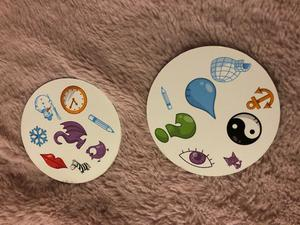ancre: (244, 86, 274, 111)
bonhomme_neige: (31, 93, 62, 125)
bouche: (38, 150, 68, 170)
chat: (222, 151, 242, 170)
crayon: (85, 111, 115, 136), (157, 85, 174, 112)
dragon: (52, 118, 89, 150)
flocon: (26, 125, 51, 147)
goutte: (182, 76, 220, 120)
horloge: (58, 85, 89, 115)
igloo: (209, 56, 252, 85)
oeuil: (178, 146, 216, 169)
oiseau: (82, 140, 112, 163)
point_interrogation: (156, 110, 196, 144)
ying_yang: (225, 110, 261, 146)
zebre: (68, 158, 94, 175)
